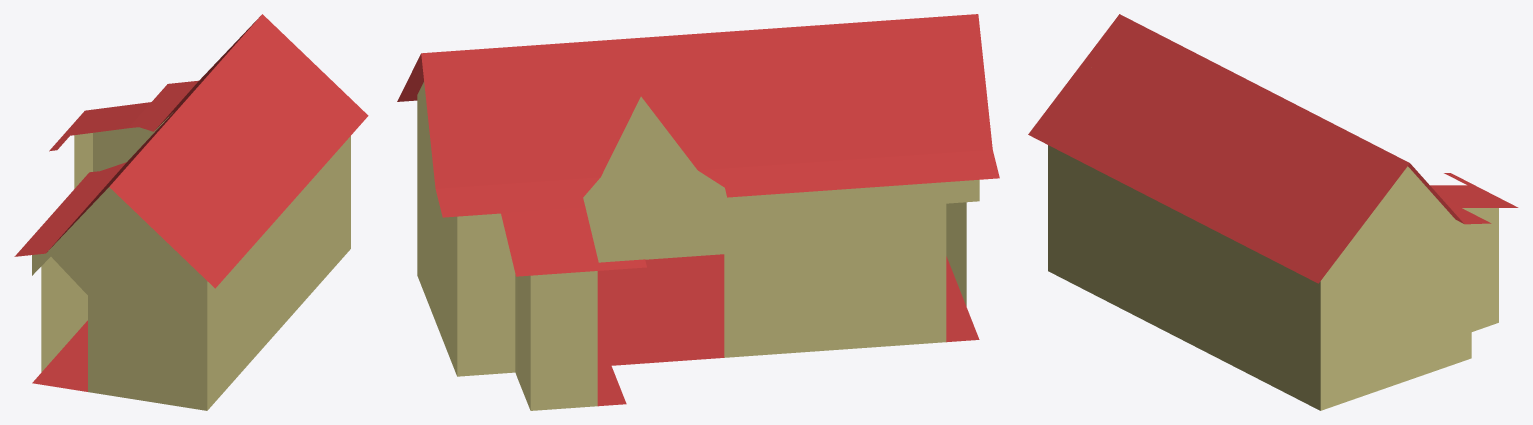
3 renders of one model, left to right at view 1: azimuth 30°, elevation 25°; view 2: azimuth 150°, elevation 25°; view 3: azimuth 270°, elevation 25°, orthographic. The views are drawn at different scales.
Bounding box in the file's own units: 26 × 25.76 × 13.
